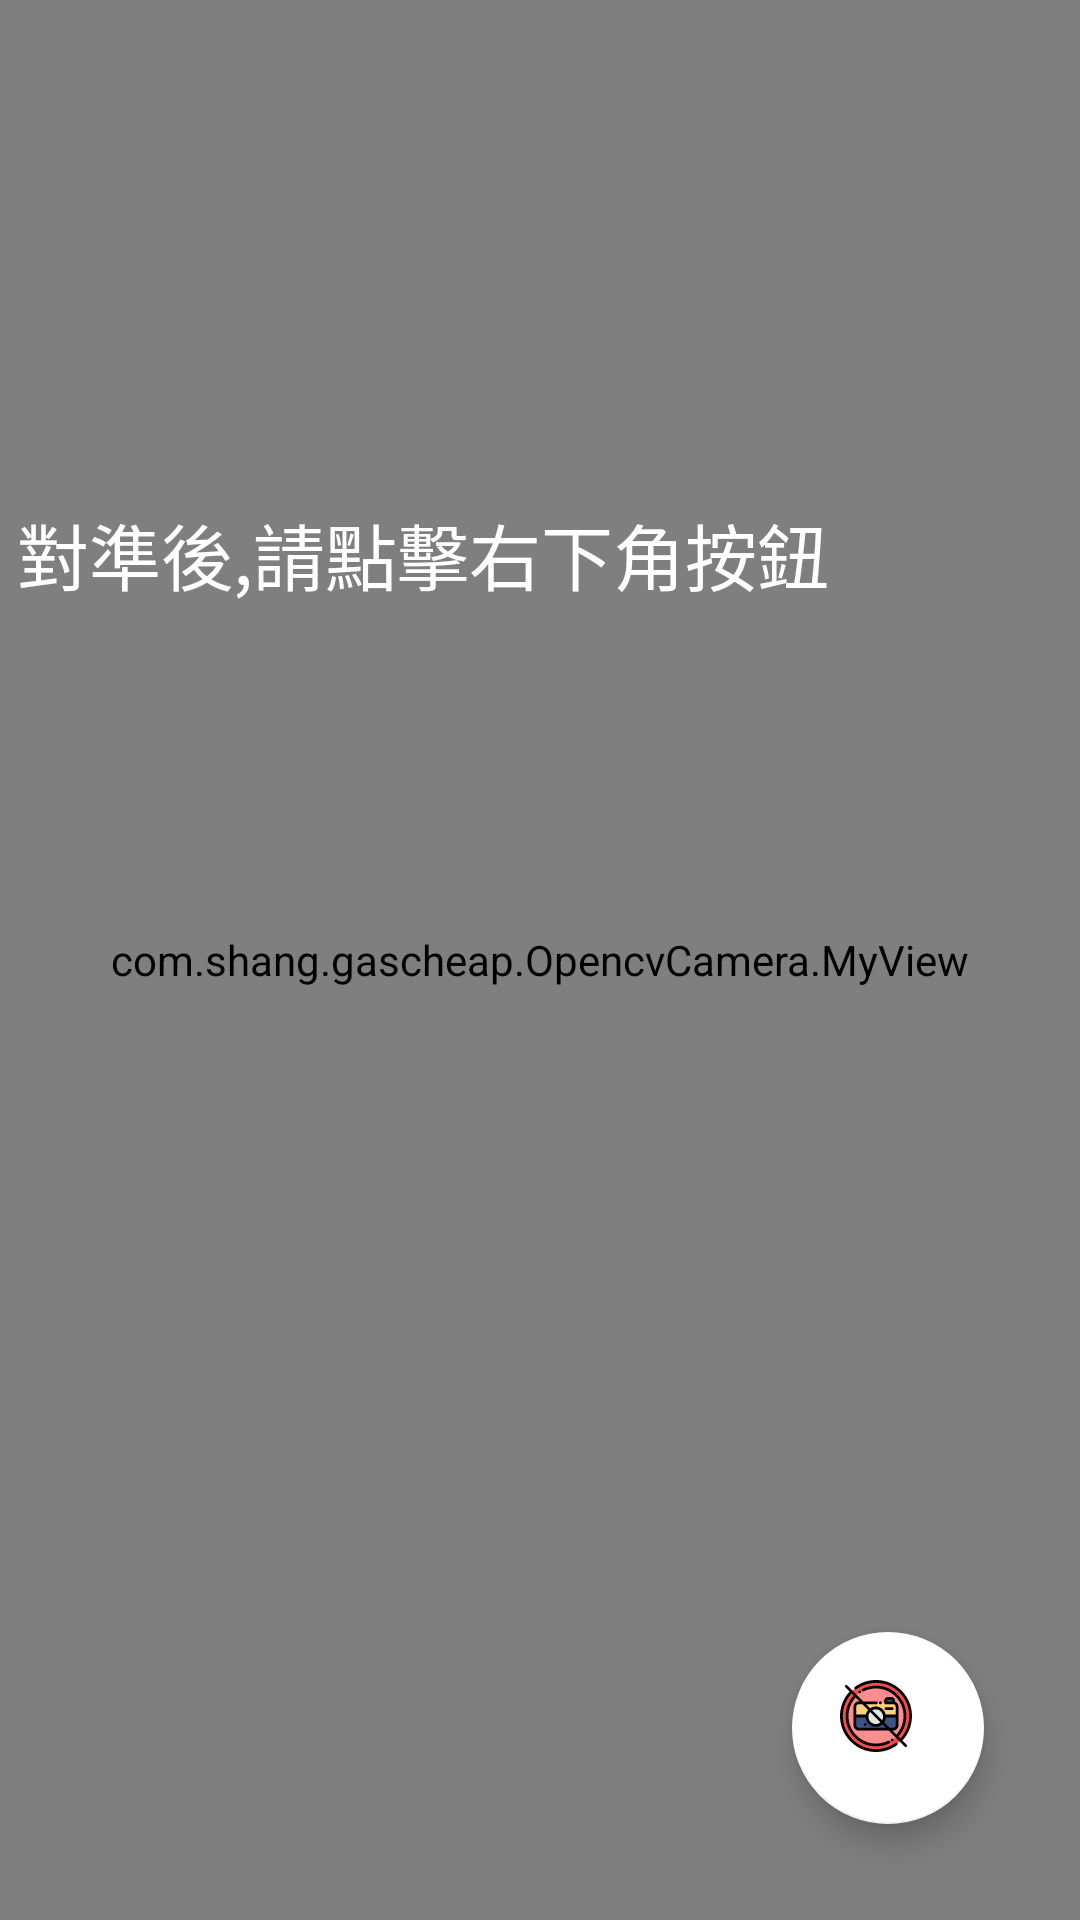

Where icons sit on this 1080 x 1920 app screen, as (x1=x1, y1=y1, x2=x2, y2=y2):
nocamera: (x1=792, y1=1632, x2=984, y2=1824)
